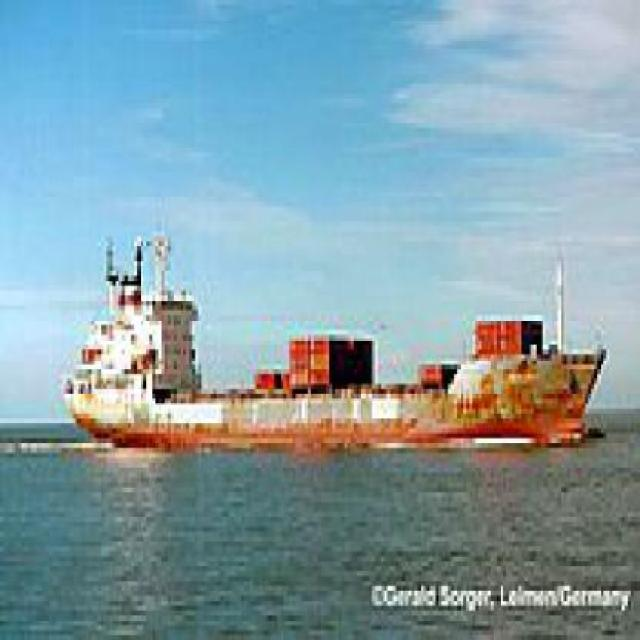container: (68, 223, 614, 460)
